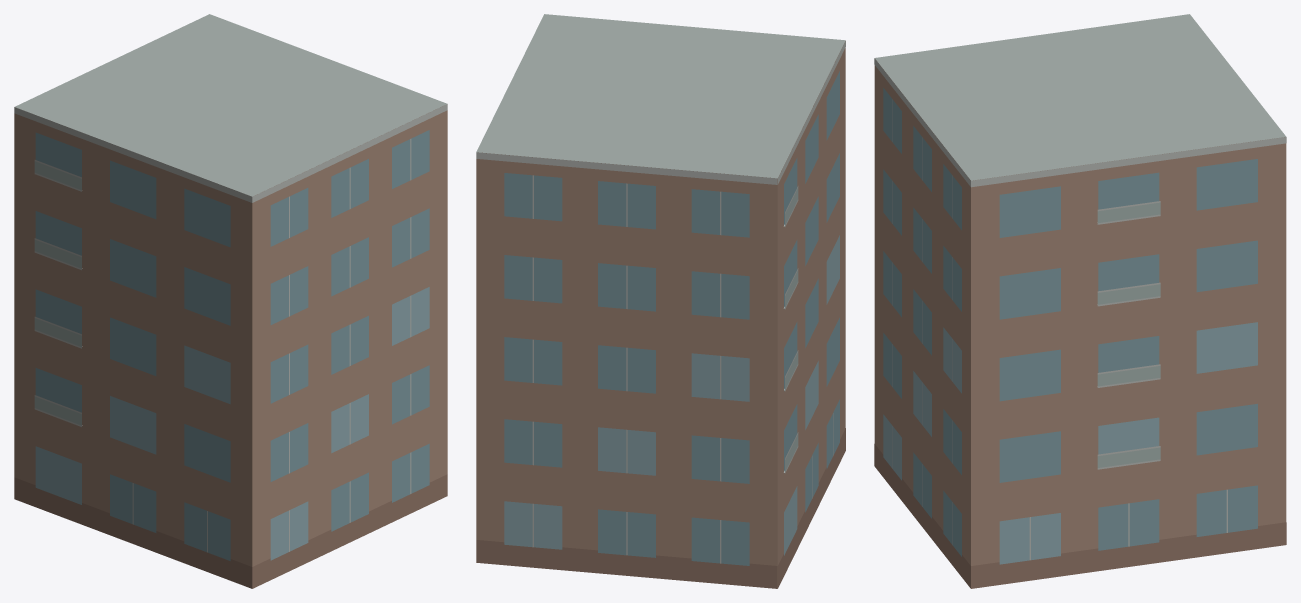
The model's file is survey-upis-32881746.glb.
The picture shows the model from 3 angles, left to right: view 1: azimuth 30°, elevation 25°; view 2: azimuth 150°, elevation 25°; view 3: azimuth 270°, elevation 25°; orthographic projection. The views are drawn at different scales.
Parts seen in each view (by area): view 1: survey-upis-32881746.tmp; view 2: survey-upis-32881746.tmp; view 3: survey-upis-32881746.tmp.
Part boxes in pixels (x1,y1,x2,y2): survey-upis-32881746.tmp: [14, 14, 447, 588]; survey-upis-32881746.tmp: [476, 14, 845, 588]; survey-upis-32881746.tmp: [874, 14, 1286, 588].
Bounding box in the file's own units: 13.24 × 15.1 × 13.82.
